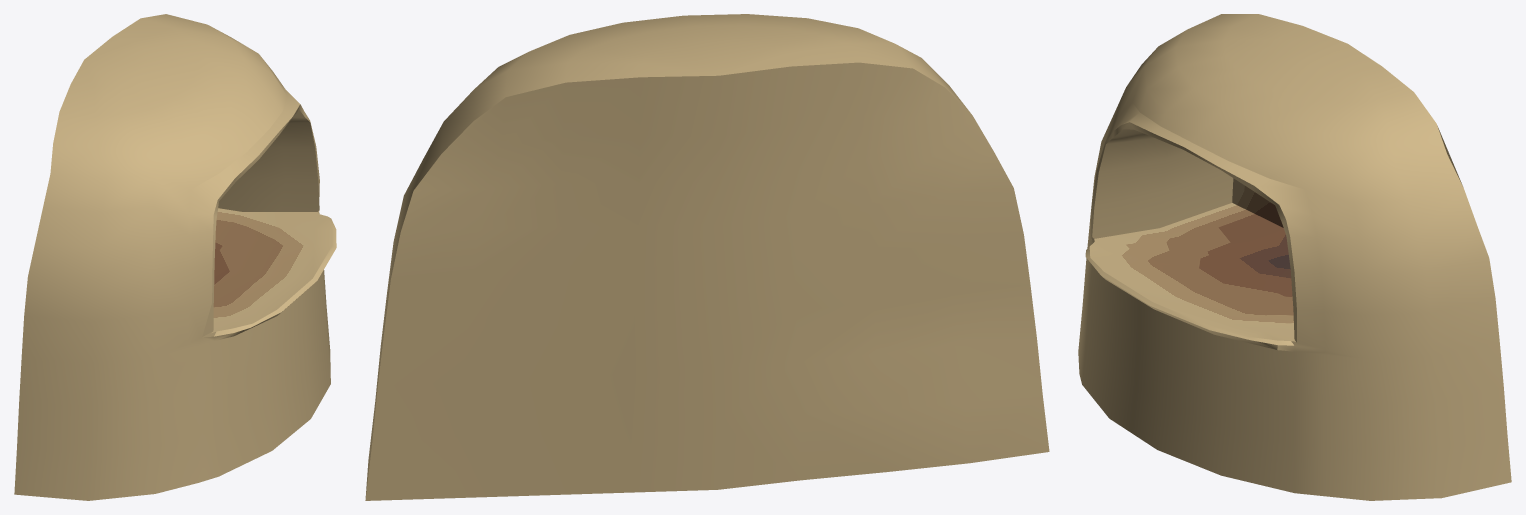
The model's file is atoll_oven.fbx.
The picture shows the model from 3 angles, left to right: view 1: azimuth 30°, elevation 25°; view 2: azimuth 150°, elevation 25°; view 3: azimuth 270°, elevation 25°; orthographic projection. The views are drawn at different scales.
Visible parts, largest first — view 1: Oven; view 2: Oven; view 3: Oven.
Part boxes in pixels (x1,y1,x2,y2): Oven: [14, 14, 336, 500]; Oven: [365, 14, 1049, 500]; Oven: [1078, 14, 1511, 500].
Size of the model in its own units: 508 by 394 by 458.
